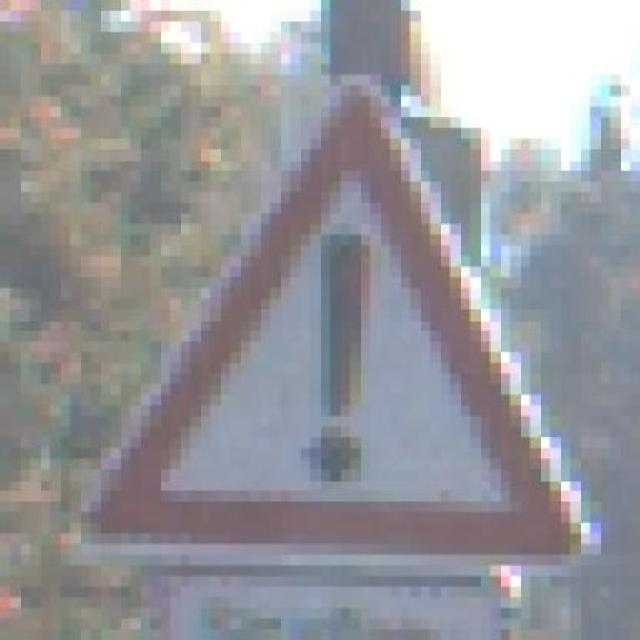Attention Please-: (50, 53, 610, 587)
